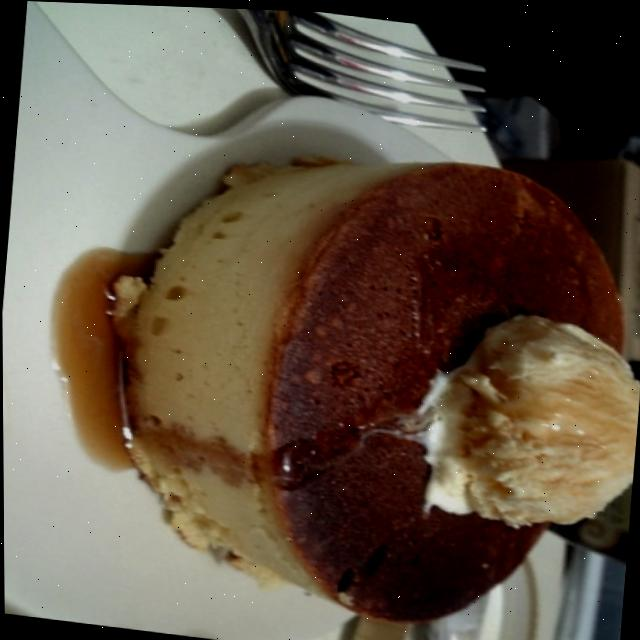蛋糕甜品: (49, 52, 640, 640)
